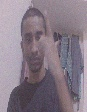hand: (37, 10, 66, 78)
